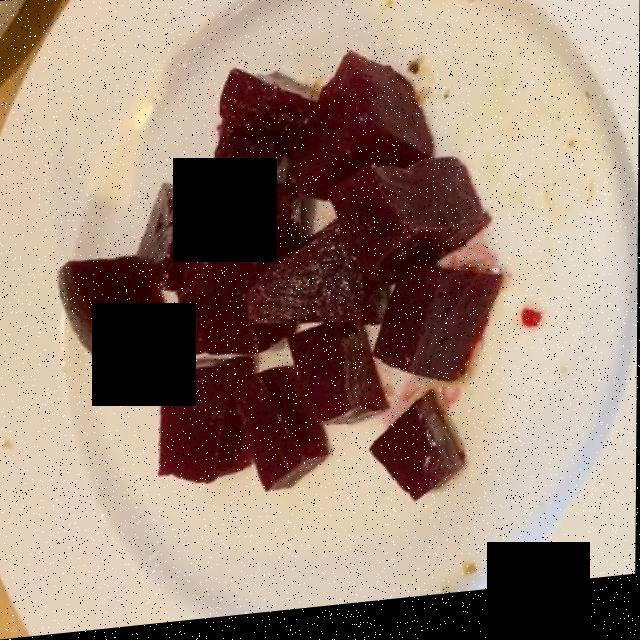beetroot: (68, 70, 493, 498)
